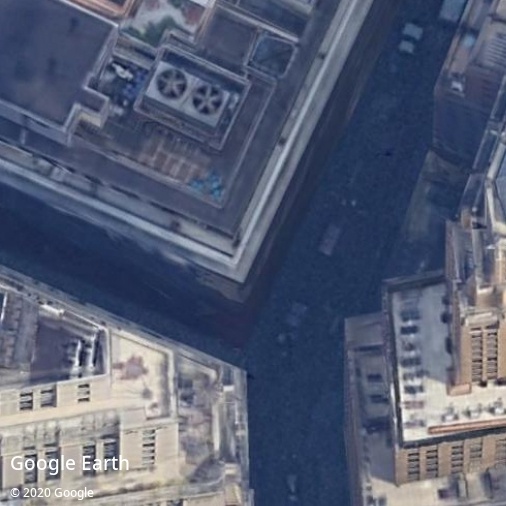Vent: (156, 69, 188, 100), (192, 84, 223, 115)
